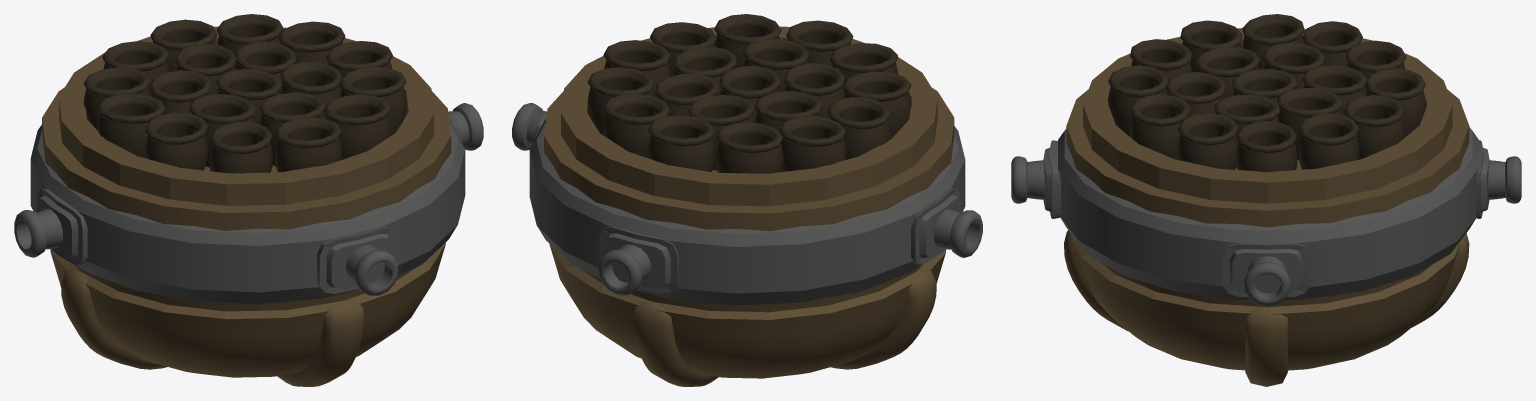
The model's file is MortarBoss.fbx.
The picture shows the model from 3 angles, left to right: view 1: azimuth 30°, elevation 25°; view 2: azimuth 150°, elevation 25°; view 3: azimuth 270°, elevation 25°; orthographic projection. The views are drawn at different scales.
Parts seen in each view (by area): view 1: pSphere3, pCylinder28, pCube19; view 2: pSphere3, pCylinder28, pCube19; view 3: pSphere3, pCylinder28, pCube19.
Boxes of the visible parts, <box> form: pSphere3: <box>42,26,451,386</box>; pCylinder28: <box>83,14,406,173</box>; pCube19: <box>14,103,483,304</box>; pSphere3: <box>544,26,954,386</box>; pCylinder28: <box>587,14,911,173</box>; pCube19: <box>512,103,982,305</box>; pSphere3: <box>1064,28,1469,386</box>; pCylinder28: <box>1108,14,1425,172</box>; pCube19: <box>1011,127,1521,306</box>.
Size of the model in its own units: 12.93 by 7.42 by 12.93.
